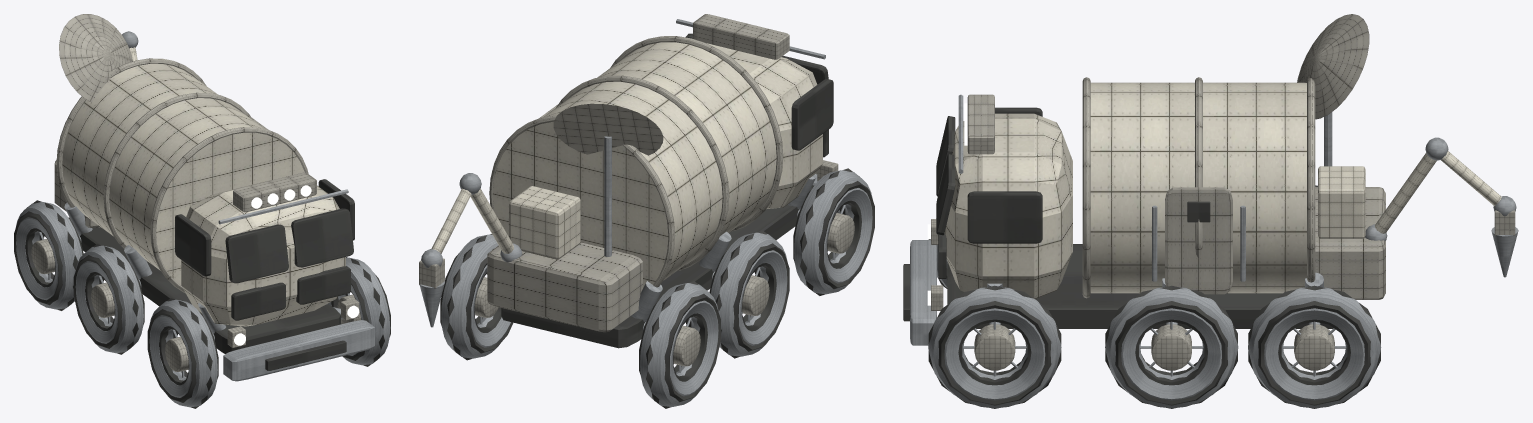
The model's file is rover.glb.
3 views of the same model, side by side, from view 1: azimuth 30°, elevation 25°; view 2: azimuth 150°, elevation 25°; view 3: azimuth 270°, elevation 25° (orthographic). The views are drawn at different scales.
Visible parts, largest first — view 1: Cube; view 2: Cube; view 3: Cube.
Boxes of the visible parts, x1,y1,x2,y2 form: Cube: [14, 14, 390, 408]; Cube: [419, 14, 874, 408]; Cube: [903, 14, 1518, 408].
Bounding box in the file's own units: 4.03 × 5.13 × 9.04.
5 materials, 4 textured.
